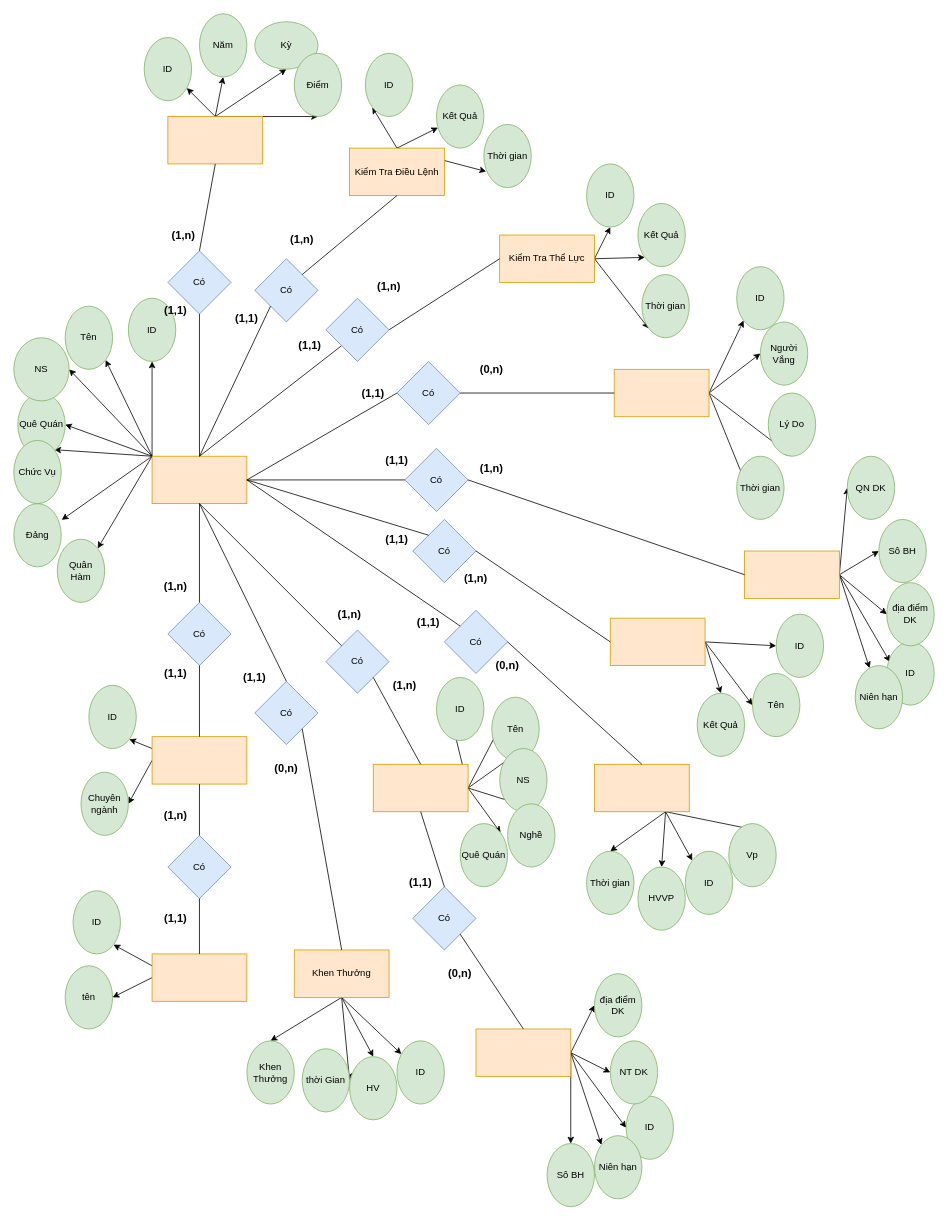
Image size: 948x1221. Some labels were removed from this diagram. The shapes that lost their labels are listed below. From the top down, each one's centre as x and y in pixels, then its label:
At [215,140]: "Bảng Điểm".
At [661,393]: "Vắng mặt".
At [199,479]: "Học Viên".
At [791,574]: "Bảo Hiểm Quân nhân".
At [657,641]: "Kiểm Tra Sức Khỏe".
At [199,760]: "Lớp chuyên Ngành".
At [420,788]: "Nhân Thân".
At [641,788]: "Hồ Sơ Kỷ luật".
At [199,977]: "Đại đội".
At [523,1052]: "Bảo Hiểm Nhân thân".
